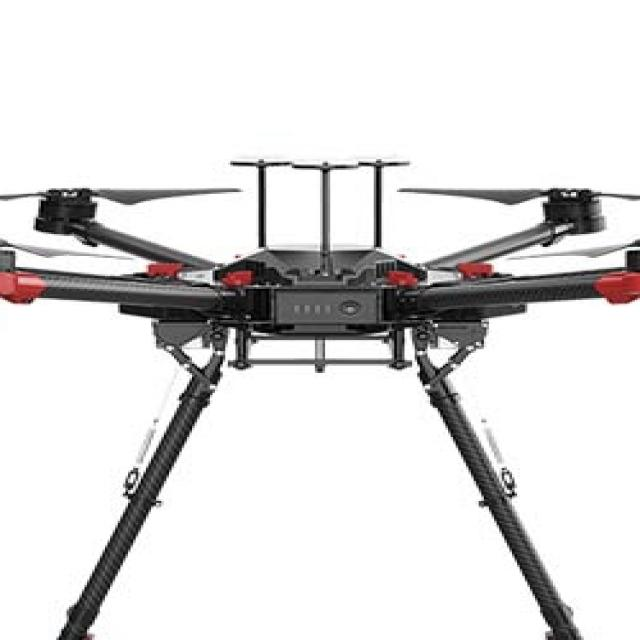drone: (0, 146, 640, 419)
